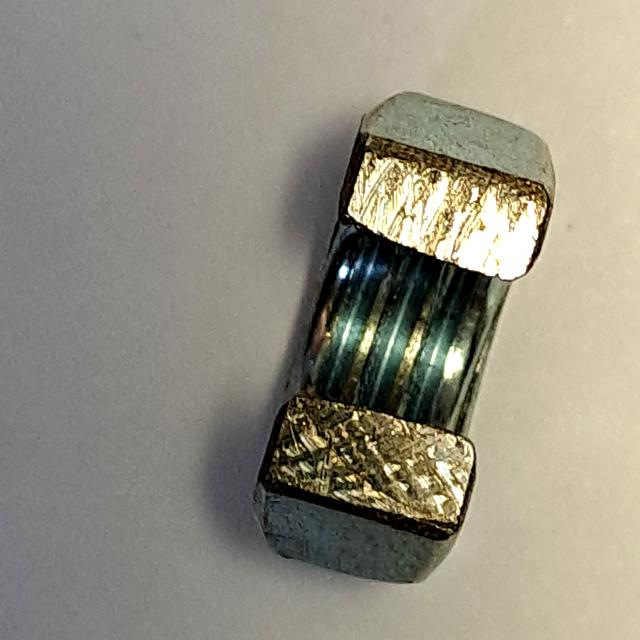Side-Fracture: (237, 70, 570, 601)
